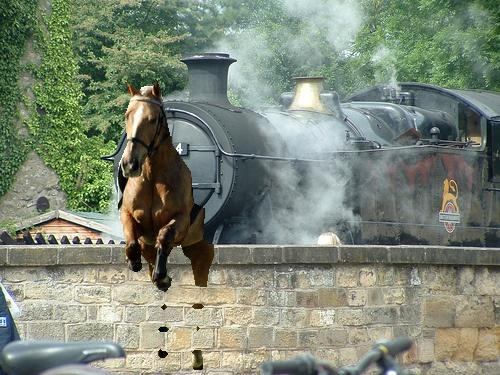tampered: (118, 81, 214, 370)
